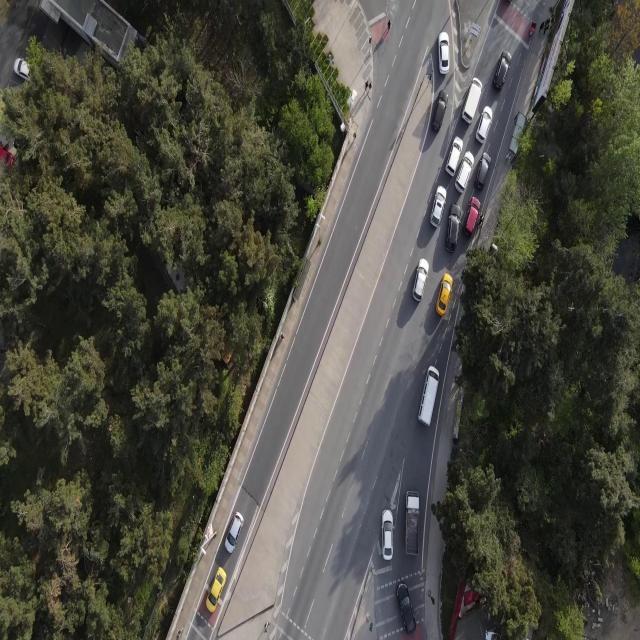p3rson: (12, 140, 20, 151), (538, 20, 544, 32), (544, 24, 550, 35), (504, 153, 511, 162), (544, 16, 550, 26), (387, 20, 391, 33), (352, 132, 357, 142), (365, 80, 369, 92), (368, 82, 372, 93)
